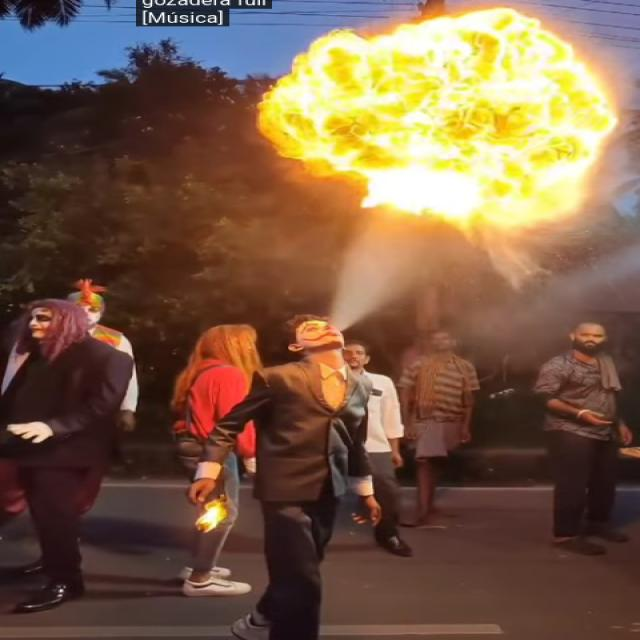fire: (254, 6, 640, 243), (193, 494, 231, 534)
